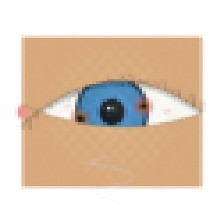foreign_body_visible: (126, 92, 161, 120)
